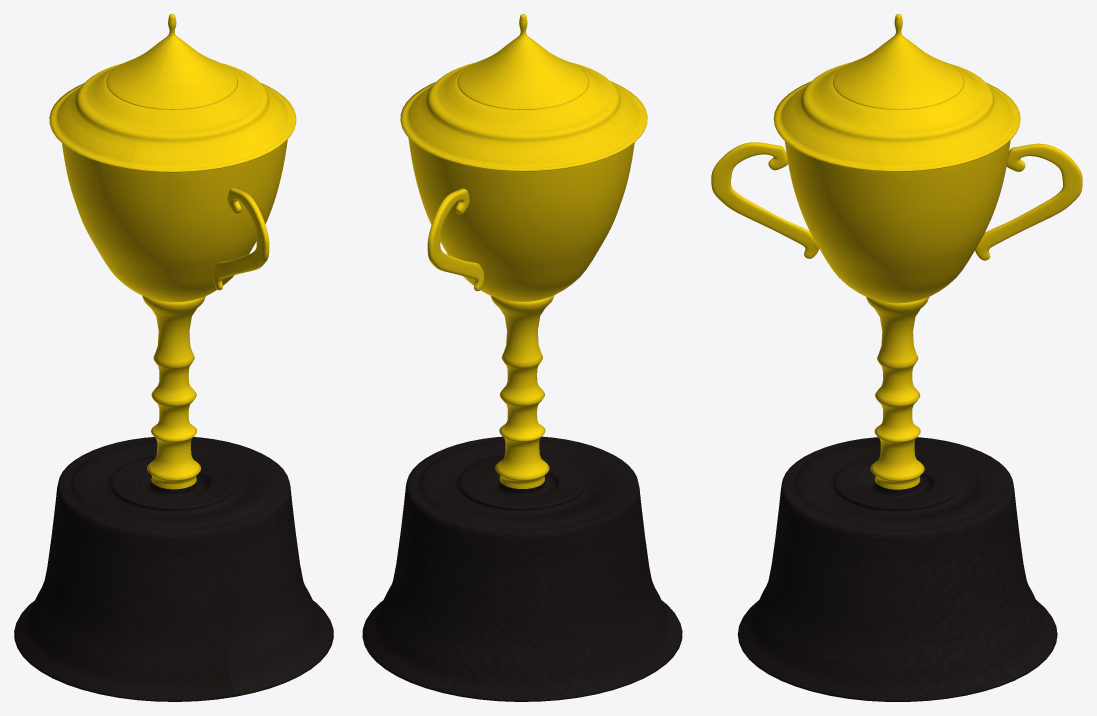
File: trofeo2.glb
3 views of the same model, side by side, from view 1: azimuth 30°, elevation 25°; view 2: azimuth 150°, elevation 25°; view 3: azimuth 270°, elevation 25° (orthographic).
Parts seen in each view (by area): view 1: Sphere.001, Sphere.002; view 2: Sphere.001, Sphere.002; view 3: Sphere.001, Sphere.002.
Boxes of the visible parts, x1,y1,x2,y2 form: Sphere.001: (14,139,333,701); Sphere.002: (49,14,296,172); Sphere.001: (362,138,682,701); Sphere.002: (400,14,647,171); Sphere.001: (711,140,1082,701); Sphere.002: (773,14,1020,171).
Size of the model in its own units: 19.08 by 40.85 by 22.2.
Materials: 11 (11 with a texture image).
